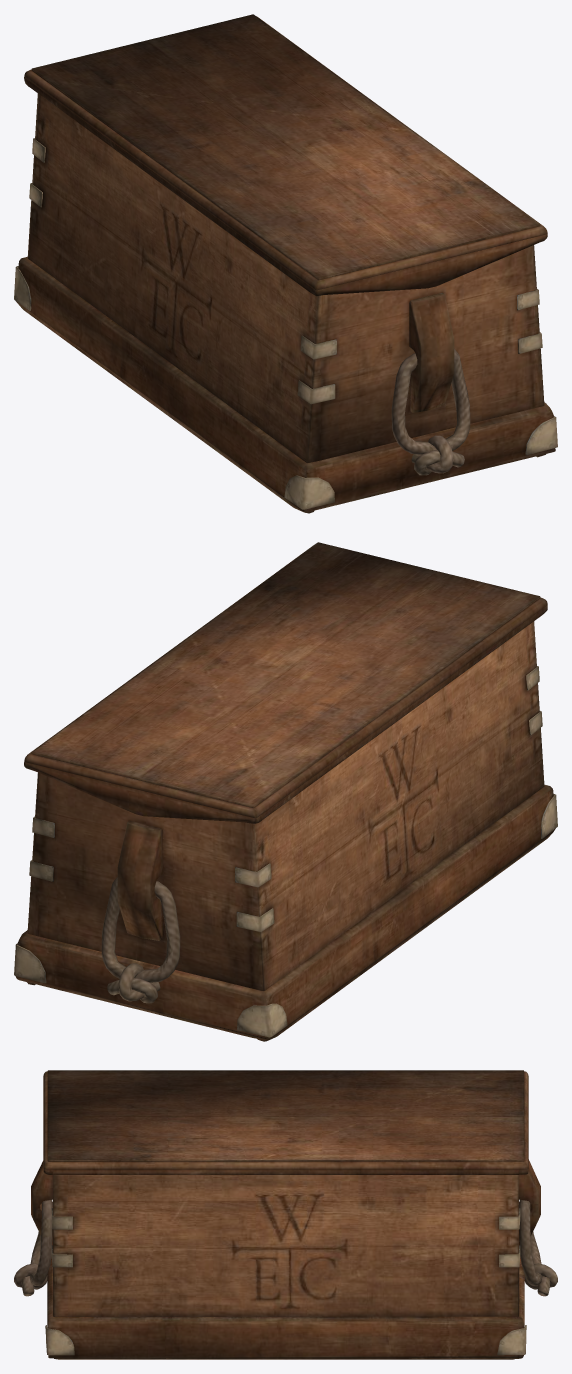
File: wooden_crate_02.gltf
3 views of the same model, one above another, from view 1: azimuth 30°, elevation 25°; view 2: azimuth 150°, elevation 25°; view 3: azimuth 270°, elevation 25° (orthographic). The views are drawn at different scales.
Visible parts, largest first — view 1: wooden_crate_02_crate, wooden_crate_02_lid; view 2: wooden_crate_02_crate, wooden_crate_02_lid; view 3: wooden_crate_02_crate, wooden_crate_02_lid.
Boxes of the visible parts, x1,y1,x2,y2 form: wooden_crate_02_crate: (14, 93, 557, 513); wooden_crate_02_lid: (24, 14, 547, 296); wooden_crate_02_crate: (14, 621, 557, 1041); wooden_crate_02_lid: (24, 542, 547, 823); wooden_crate_02_crate: (14, 1159, 557, 1359); wooden_crate_02_lid: (43, 1070, 528, 1174).
Size of the model in its own units: 0.5291 by 0.464 by 1.17.
1 material, 1 textured.
